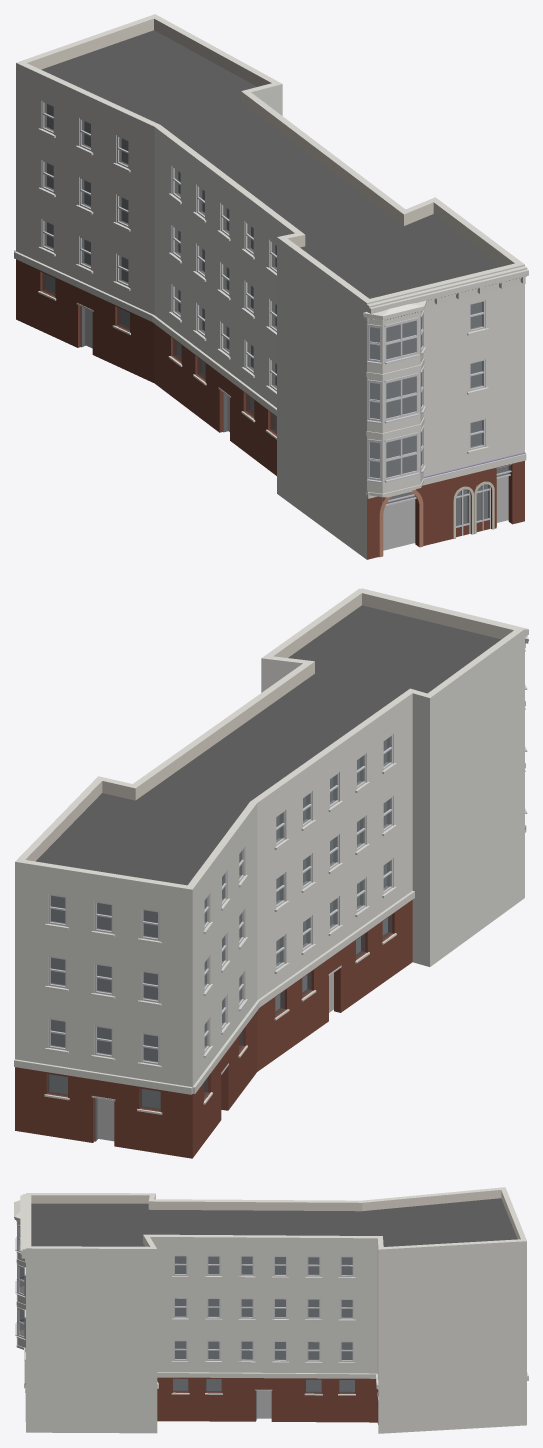
The model's file is exterior.glb.
3 views of the same model, one above another, from view 1: azimuth 30°, elevation 25°; view 2: azimuth 150°, elevation 25°; view 3: azimuth 270°, elevation 25° (orthographic). The views are drawn at different scales.
Visible parts, largest first — view 1: shell, roof, shadow-proxy, trim, glazing, bay-glazing-hyb, bay-windows-hyb, frames, storefront, hyC-arches-1; view 2: shell, roof, glazing, trim, shadow-proxy, frames; view 3: shell, roof, glazing, shadow-proxy, trim, frames, bay-glazing-hyb, bay-windows-hyb.
Boxes of the visible parts, x1=… form: shell: x1=16, y1=14, x2=524, y2=559; roof: x1=41, y1=30, x2=502, y2=298; shadow-proxy: x1=46, y1=104, x2=508, y2=550; trim: x1=14, y1=128, x2=528, y2=498; glazing: x1=42, y1=103, x2=511, y2=526; bay-glazing-hyb: x1=367, y1=310, x2=426, y2=483; bay-windows-hyb: x1=363, y1=300, x2=426, y2=497; frames: x1=42, y1=101, x2=485, y2=450; storefront: x1=76, y1=303, x2=511, y2=537; hyC-arches-1: x1=379, y1=481, x2=494, y2=557; shell: x1=15, y1=588, x2=524, y2=1158; roof: x1=36, y1=605, x2=501, y2=885; glazing: x1=47, y1=737, x2=391, y2=1110; trim: x1=14, y1=588, x2=528, y2=1114; shadow-proxy: x1=49, y1=739, x2=387, y2=1141; frames: x1=48, y1=734, x2=392, y2=1064; shell: x1=26, y1=1187, x2=526, y2=1433; roof: x1=31, y1=1198, x2=517, y2=1246; glazing: x1=173, y1=1256, x2=354, y2=1393; shadow-proxy: x1=173, y1=1256, x2=354, y2=1418; trim: x1=20, y1=1194, x2=528, y2=1395; frames: x1=174, y1=1255, x2=353, y2=1361; bay-glazing-hyb: x1=15, y1=1221, x2=25, y2=1340; bay-windows-hyb: x1=14, y1=1200, x2=25, y2=1349.
Bounding box in the file's own units: 9.58 × 13.01 × 32.96.
